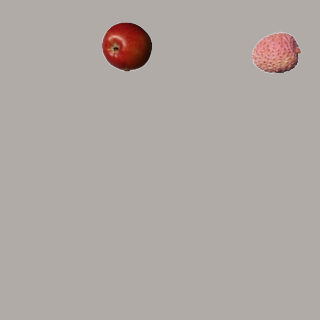Apple Braeburn: (101, 21, 151, 71)
Lychee: (251, 27, 301, 77)
